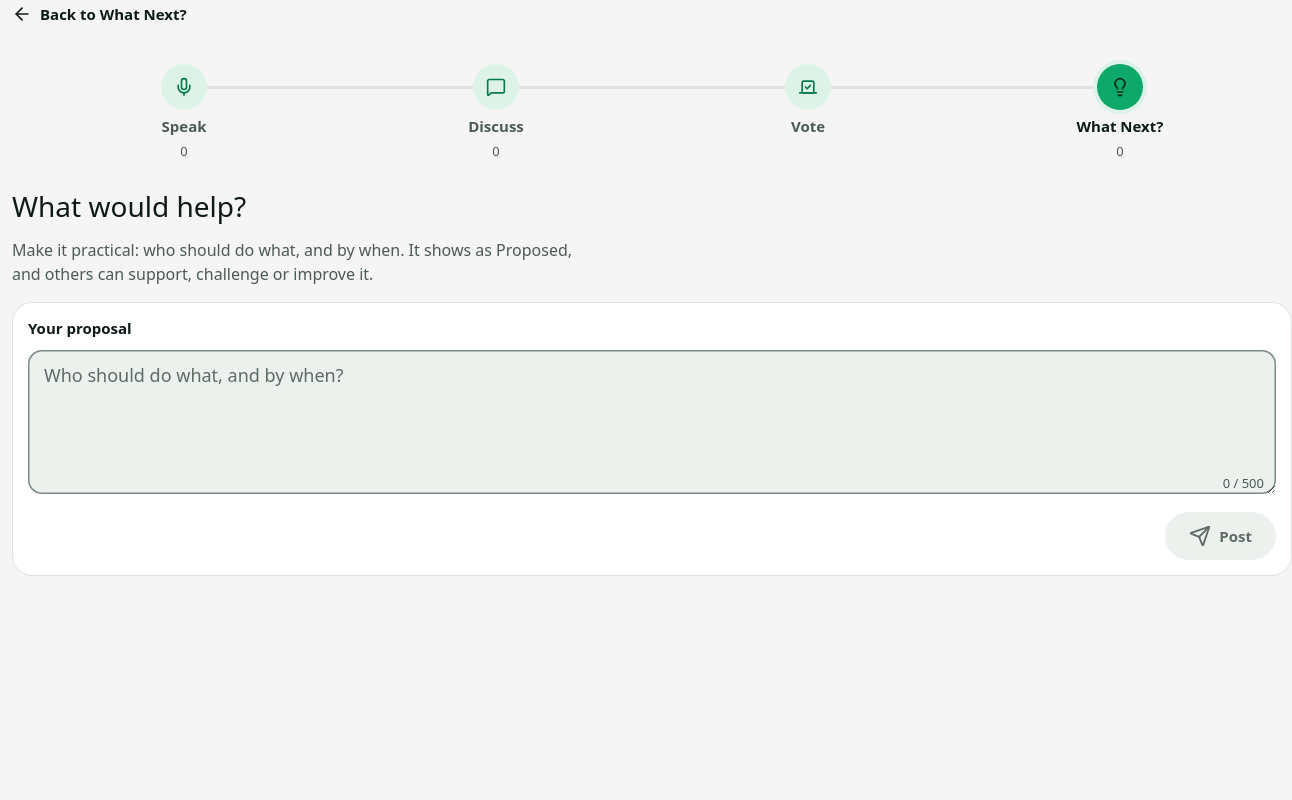
Scenario: Proposals › Propose: a 429 shows the drawn slow-down message and does not leave the page
Type "Pay on the 25th" into the text box with placeholder "Who should do what, and by when?" at [652, 422], box x1=28 y1=350 x2=1276 y2=494
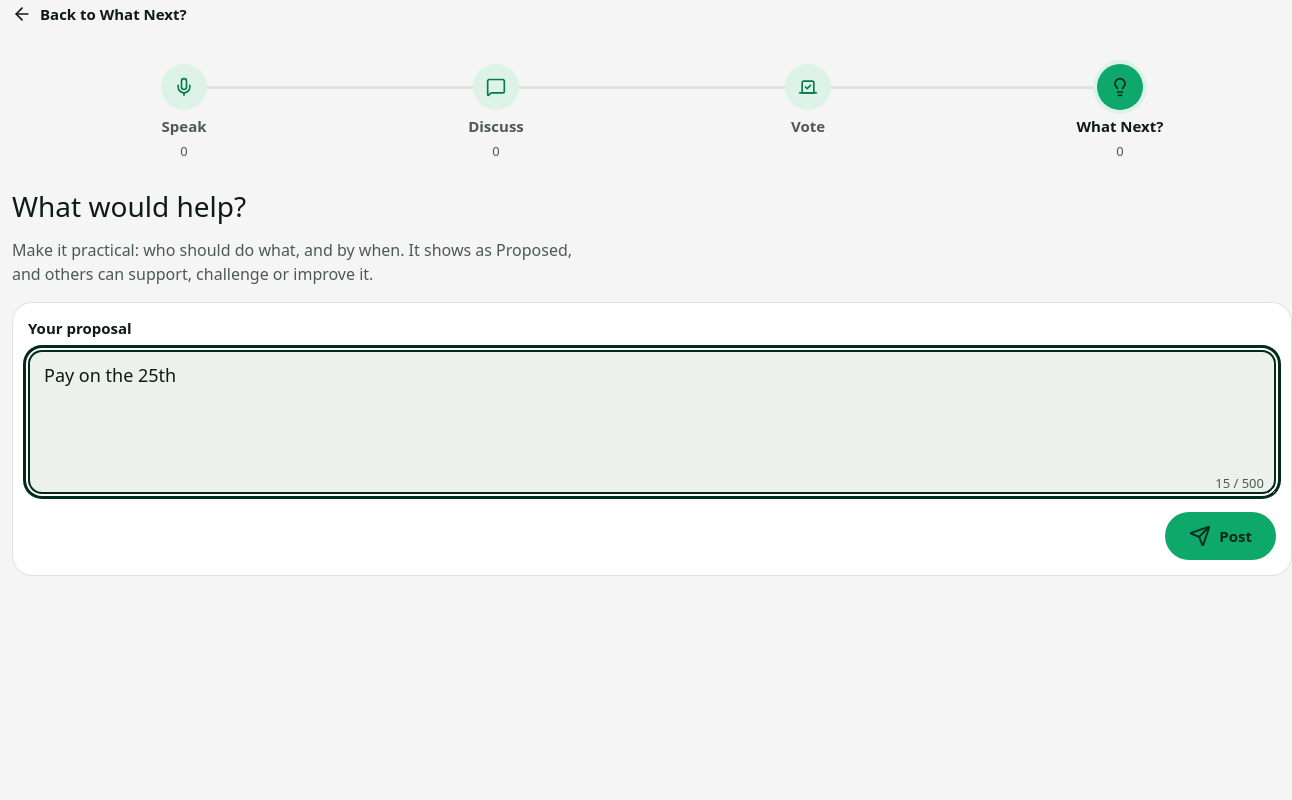
Click the button "Post" at [1221, 536], box x1=1165 y1=512 x2=1276 y2=560
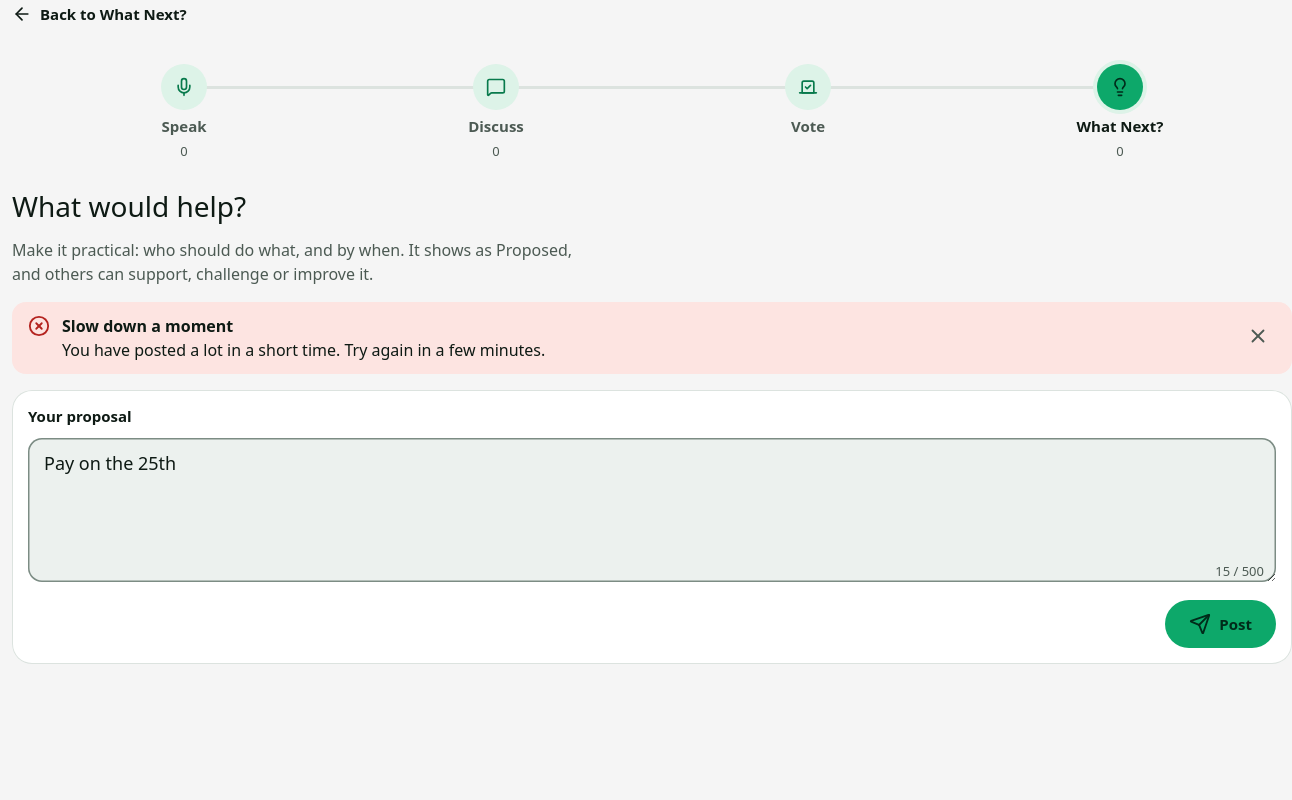
Expected: the text "Slow down a moment" is shown, x1=62 y1=315 x2=233 y2=337
